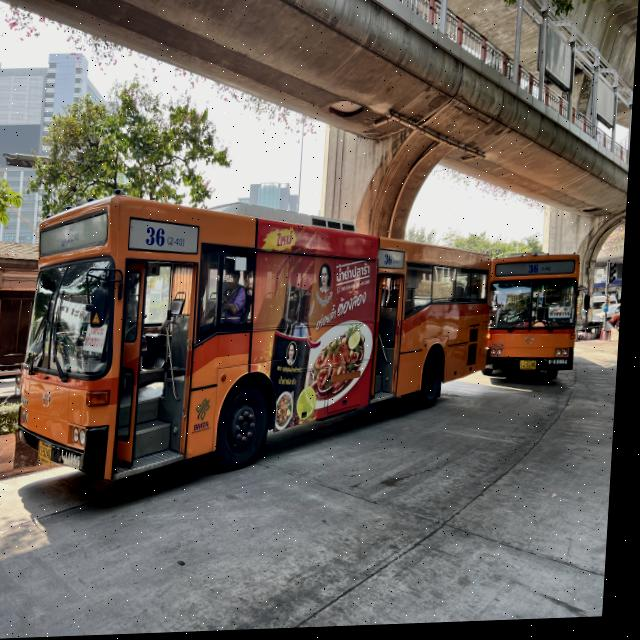BMTA-bus: (20, 187, 502, 489), (489, 256, 587, 392)
Bus-Line-Number: (144, 221, 190, 253), (61, 225, 85, 251), (531, 266, 556, 279)
Destination-Sign-Extra-Bus: (86, 326, 112, 353), (552, 310, 576, 324)
